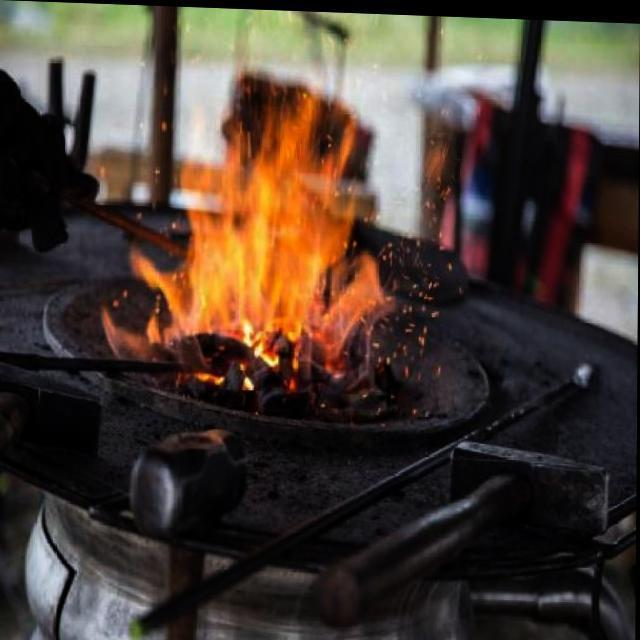Fire: (98, 71, 392, 376)
